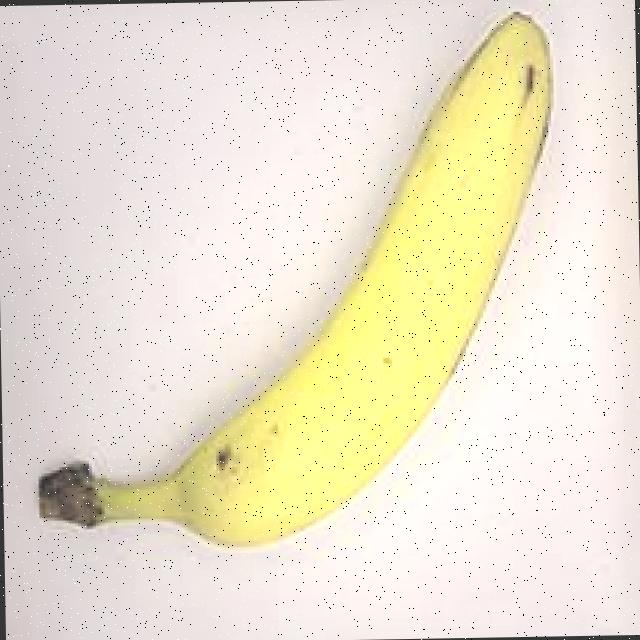Ripe: (12, 0, 594, 577)
